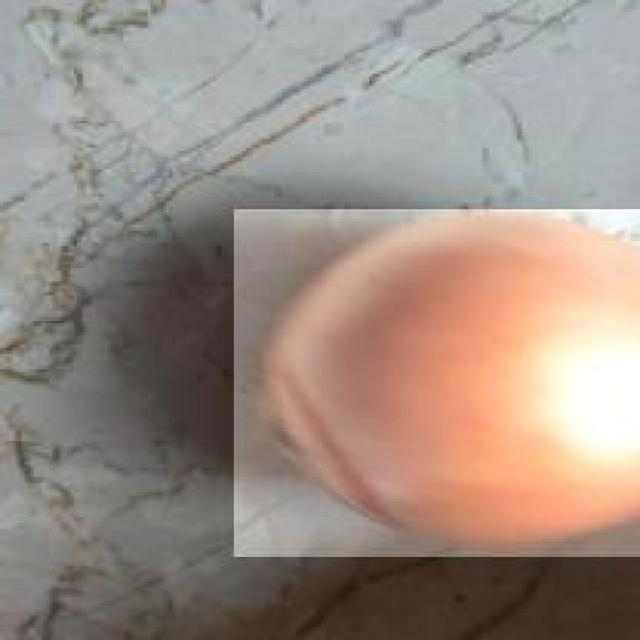onion: (234, 206, 640, 557)
